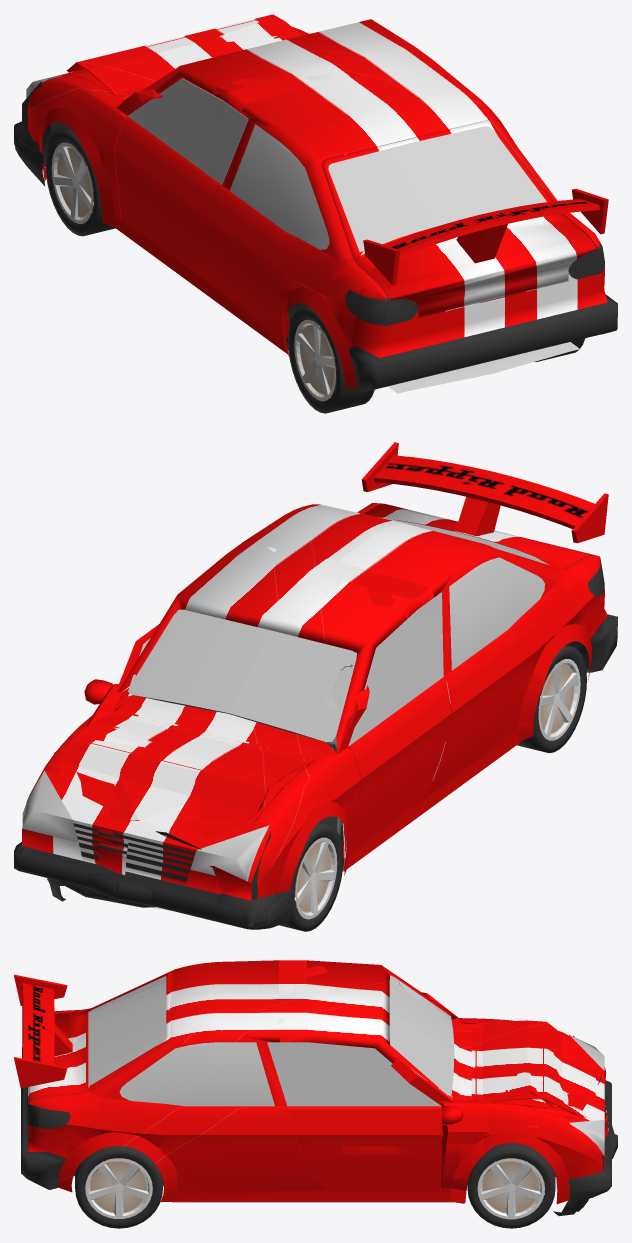
The model's file is Car.fbx.
The picture shows the model from 3 angles, top to bottom: view 1: azimuth 30°, elevation 25°; view 2: azimuth 150°, elevation 25°; view 3: azimuth 270°, elevation 25°; orthographic projection. The views are drawn at different scales.
Parts seen in each view (by area): view 1: Trunk, RLTop, LSidePanel, Rear, FLDoor, RRTop, FLWing, Bonnet.FCrunch, FRTop, FLTop, FLTop.Crunch, CarBody (+12 smaller); view 2: FRTop, Bonnet.FCrunch, LSidePanel, FLDoor, RLTop, Trunk, FrontPanel, FLWing, FLTop, CarBody, RRTop, Bonnet (+17 smaller); view 3: RSidePanel, RRTop, Trunk, FRDoor.Scrape, FRTop, Bonnet.FCrunch, FRDoor, FRWing, FRWing.FRCrunch, RLTop, FLTop, FRWheel (+15 smaller).
Part boxes in pixels (x1,y1,x2,y2): Trunk: [322, 121, 608, 317]; RLTop: [222, 79, 405, 259]; LSidePanel: [114, 185, 386, 388]; Rear: [347, 266, 617, 393]; FLDoor: [114, 78, 248, 269]; RRTop: [339, 59, 557, 201]; FLWing: [27, 75, 127, 227]; Bonnet.FCrunch: [66, 14, 301, 98]; FRTop: [276, 19, 431, 77]; FLTop: [127, 42, 309, 115]; FLTop.Crunch: [116, 57, 350, 115]; CarBody: [51, 75, 604, 349]; FRTop: [118, 542, 356, 740]; Bonnet.FCrunch: [60, 713, 308, 839]; LSidePanel: [343, 556, 600, 871]; FLDoor: [348, 592, 451, 850]; RLTop: [337, 523, 561, 676]; Trunk: [361, 442, 608, 569]; FrontPanel: [14, 820, 278, 923]; FLWing: [247, 746, 361, 898]; FLTop: [268, 581, 434, 753]; CarBody: [23, 509, 604, 843]; RRTop: [243, 504, 402, 561]; Bonnet: [57, 711, 314, 849]; RSidePanel: [29, 1091, 453, 1202]; RRTop: [89, 994, 286, 1106]; Trunk: [14, 972, 170, 1102]; FRDoor.Scrape: [267, 1042, 441, 1191]; FRTop: [279, 975, 454, 1100]; Bonnet.FCrunch: [475, 1020, 596, 1117]; FRDoor: [292, 1103, 441, 1180]; FRWing: [441, 1105, 604, 1204]; FRWing.FRCrunch: [439, 1099, 570, 1202]; RLTop: [91, 960, 278, 1008]; FLTop: [306, 960, 457, 1017]; FRWheel: [467, 1143, 555, 1228].
Bounding box in the file's own units: 185 × 148 × 436.
